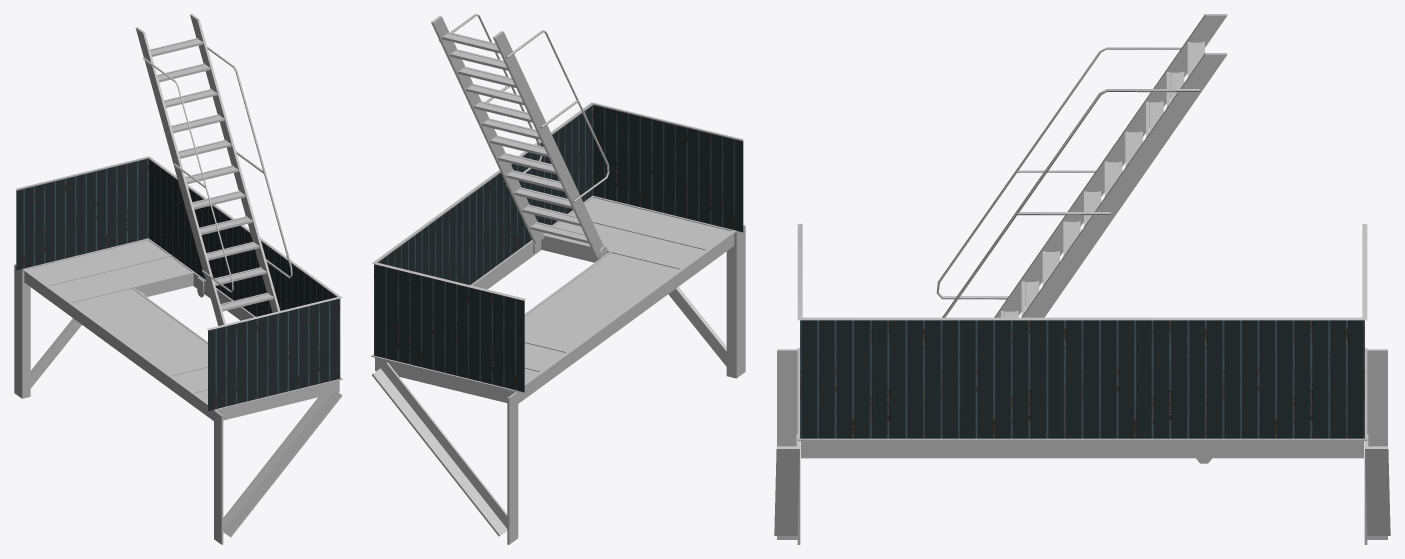
File: Fire_escape2_LOD1.fbx
3 views of the same model, side by side, from view 1: azimuth 30°, elevation 25°; view 2: azimuth 150°, elevation 25°; view 3: azimuth 270°, elevation 25° (orthographic). The views are drawn at different scales.
Visible parts, largest first — view 1: polySurface949; view 2: polySurface949; view 3: polySurface949.
Part boxes in pixels (left/top/right/bottom): polySurface949: left=14, top=14, right=342, bottom=544; polySurface949: left=371, top=14, right=745, bottom=544; polySurface949: left=774, top=14, right=1390, bottom=544.
Size of the model in its own units: 1.62 by 4.49 by 4.38.
